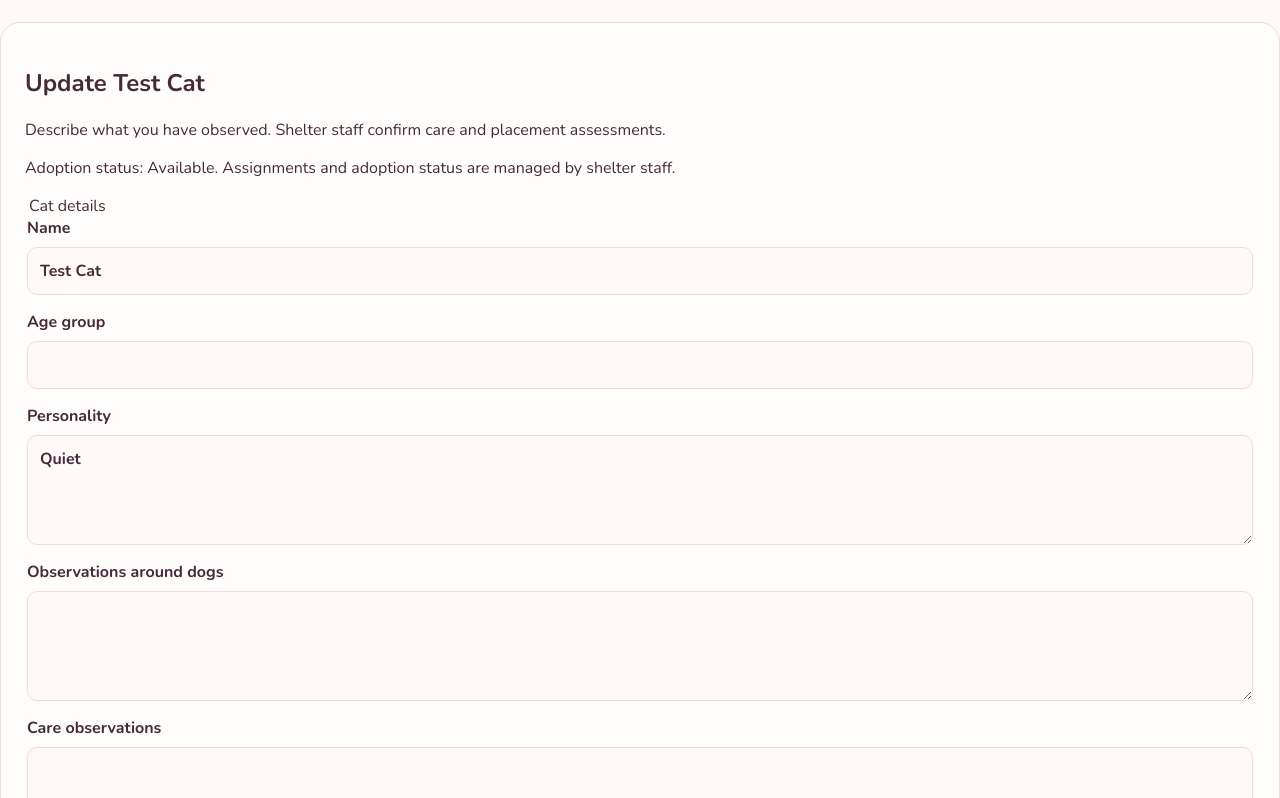
Test: foster cat details › preserves input after denied failure and permits retry
Later steps or results of the test are not shown.
Replace the text in the text box labelled "Personality" with "Playful": (640, 490) [27,435,1253,545]
(page scrolled)
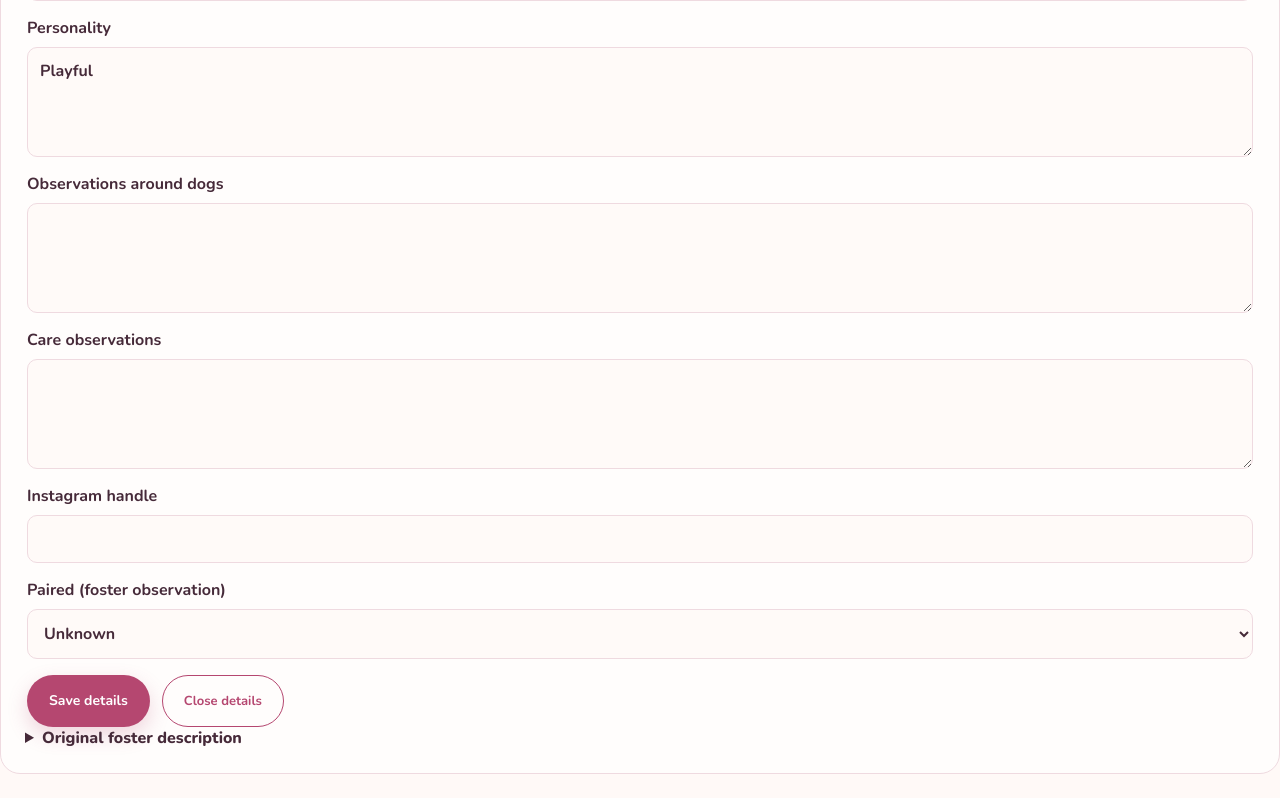
Click the button "Save details": (88, 701) [27,675,150,727]
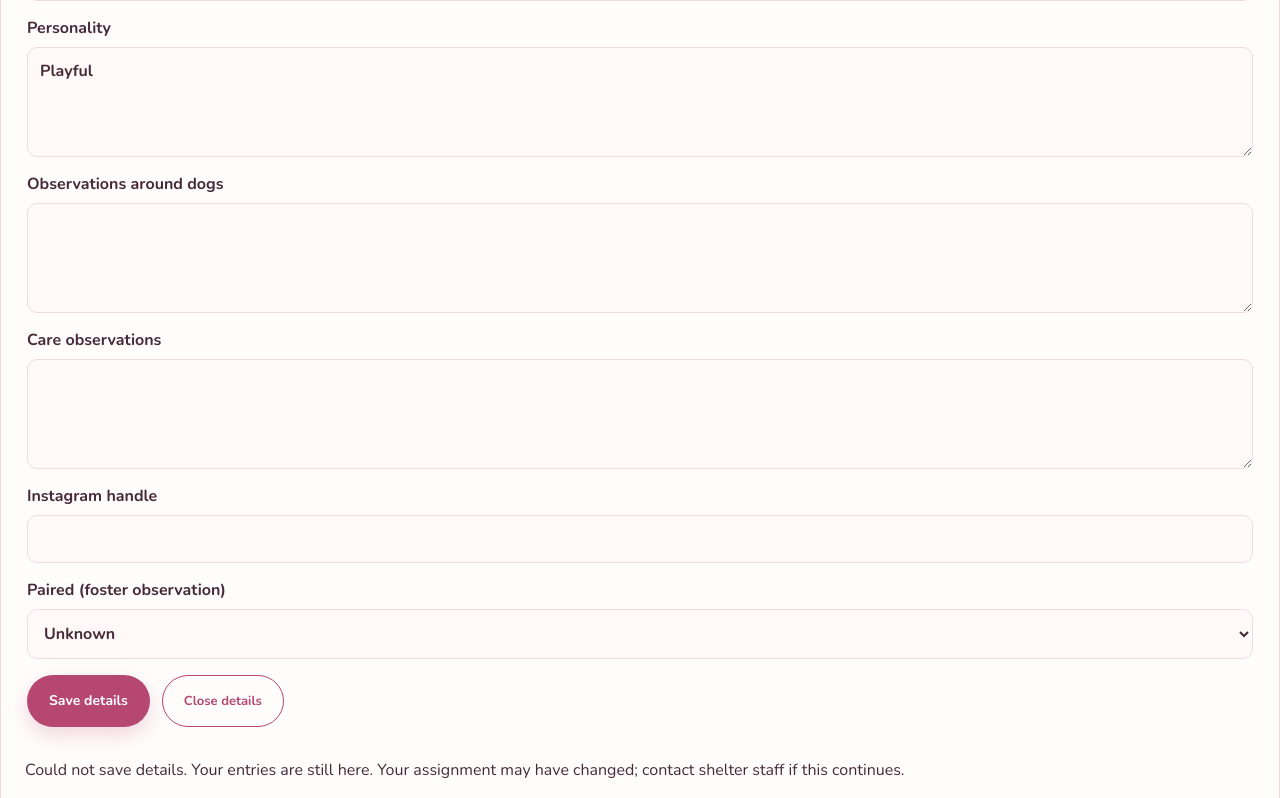
Expected: the message shows "Could not save details", [25,759,904,781]
